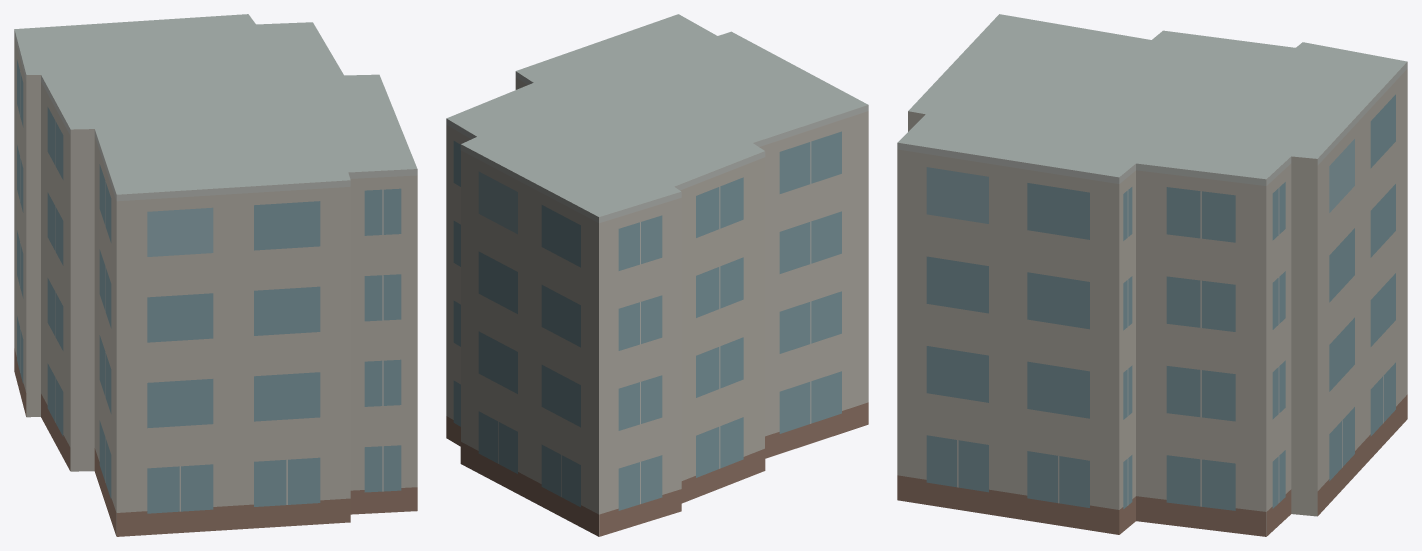
The model's file is survey-upis-32878250.glb.
3 views of the same model, side by side, from view 1: azimuth 30°, elevation 25°; view 2: azimuth 150°, elevation 25°; view 3: azimuth 270°, elevation 25° (orthographic). The views are drawn at different scales.
Parts seen in each view (by area): view 1: survey-upis-32878250.tmp; view 2: survey-upis-32878250.tmp; view 3: survey-upis-32878250.tmp.
Part boxes in pixels (<box>): survey-upis-32878250.tmp: <box>14,14,417,536</box>; survey-upis-32878250.tmp: <box>446,14,868,536</box>; survey-upis-32878250.tmp: <box>897,14,1407,536</box>.
Bounding box in the file's own units: 12.7 × 12.8 × 16.56.
